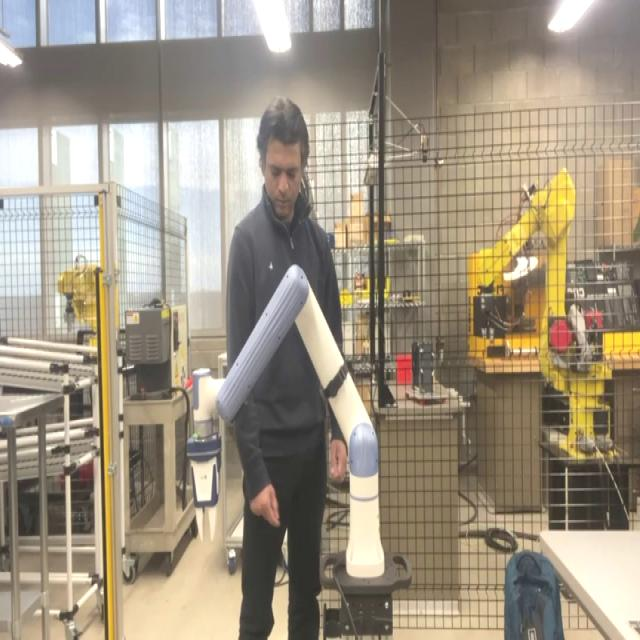robot: (181, 257, 392, 584)
